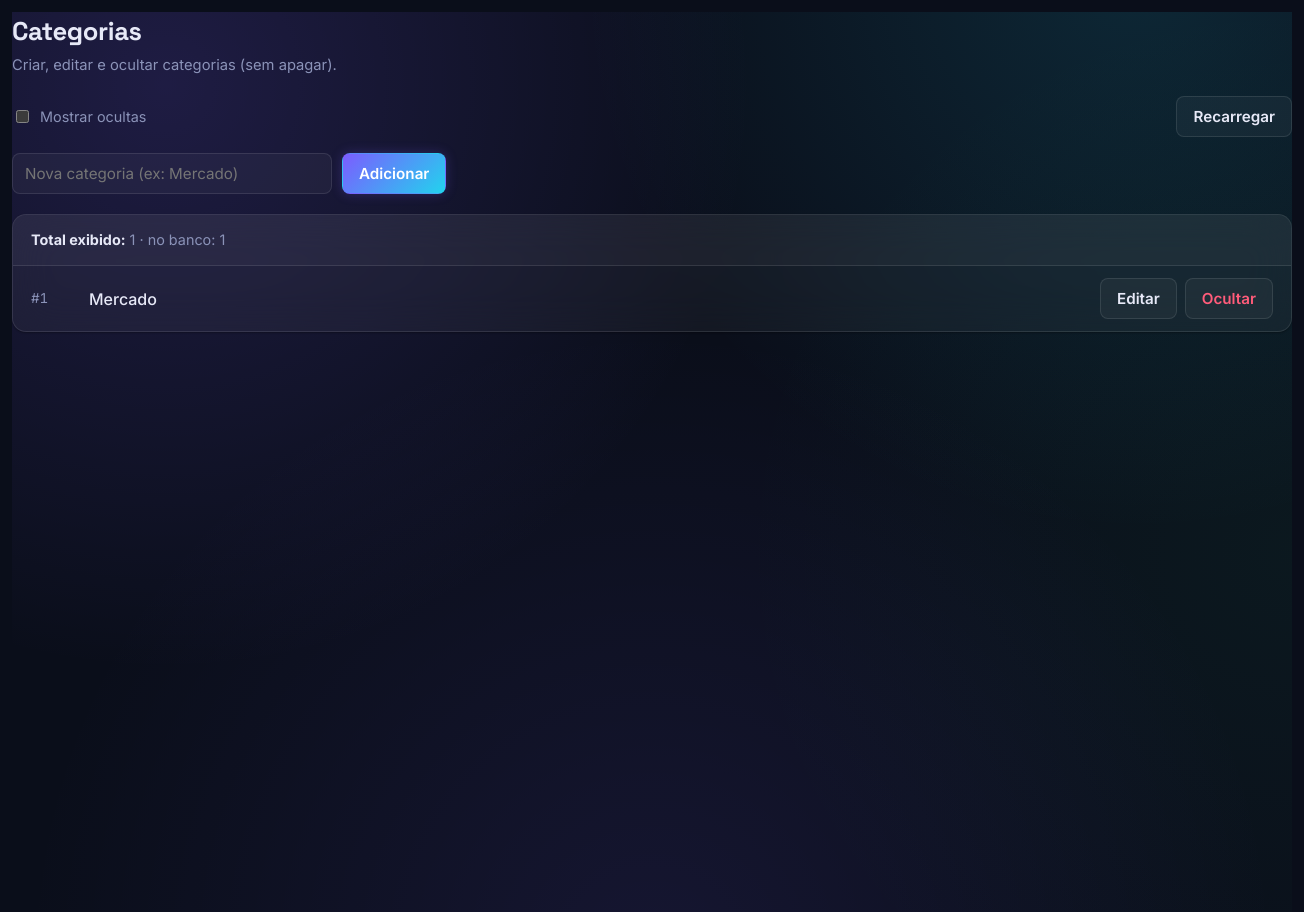
it: Categories › marcar 'Mostrar ocultas' busca todas e mostra a categoria oculta
The image size is (1304, 912).
Expected: the text "Mercado" is shown, x1=89 y1=289 x2=157 y2=309
Click the checkbox labelled "Mostrar ocultas": coordinates (22, 117) x1=16 y1=110 x2=29 y2=124
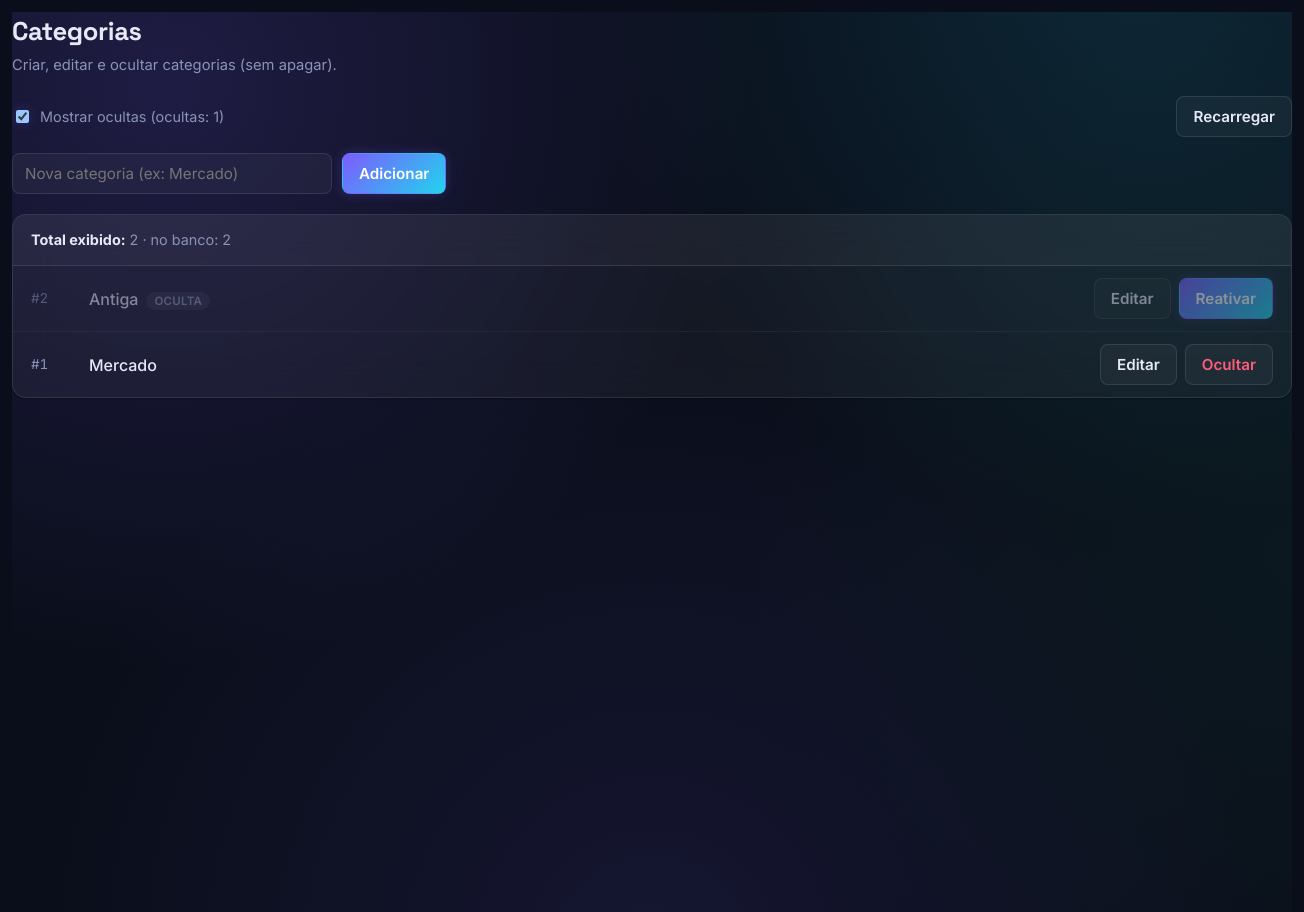
Expected: the text "Antiga" is shown, x1=89 y1=289 x2=138 y2=309
